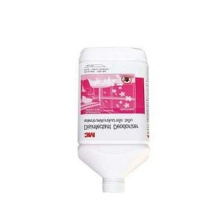cleaning_solution: (75, 40, 153, 197)
